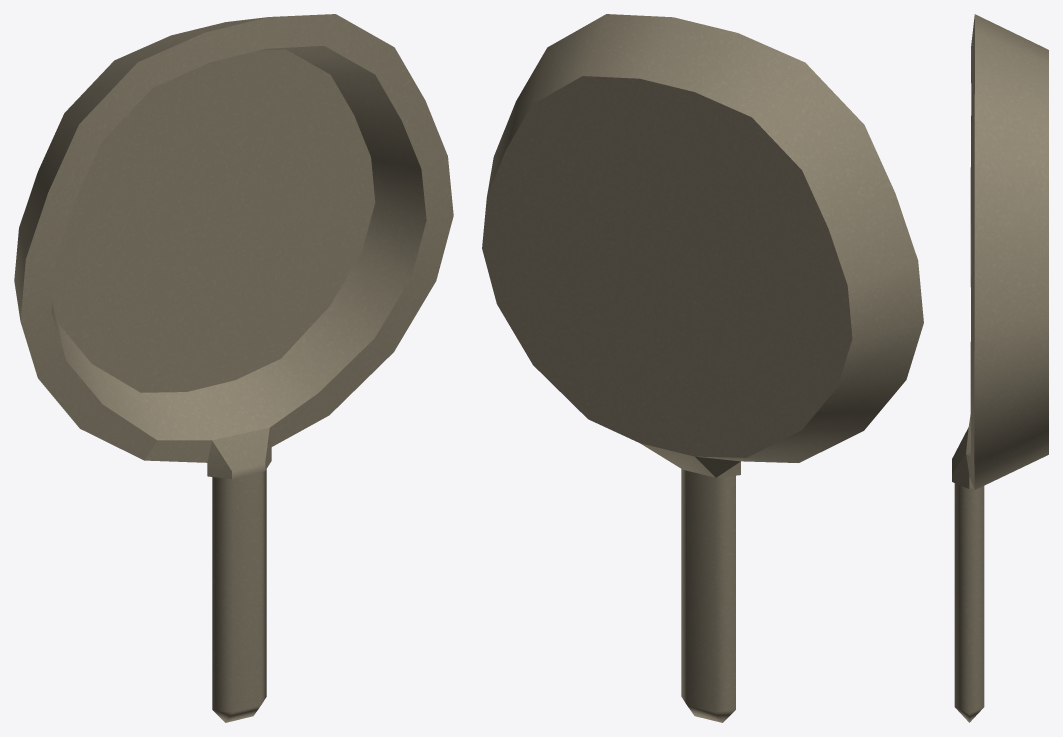
The model's file is FryingPan_Weapon_003.fbx.
3 views of the same model, side by side, from view 1: azimuth 30°, elevation 25°; view 2: azimuth 150°, elevation 25°; view 3: azimuth 270°, elevation 25° (orthographic). The views are drawn at different scales.
Parts seen in each view (by area): view 1: Pan; view 2: Pan; view 3: Pan.
Boxes of the visible parts, bbox=[...] form: Pan: bbox=[14, 14, 453, 722]; Pan: bbox=[482, 14, 923, 722]; Pan: bbox=[952, 14, 1048, 722].
Bounding box in the file's own units: 52.11 × 79.6 × 10.46.
Materials: 1 (1 with a texture image).
